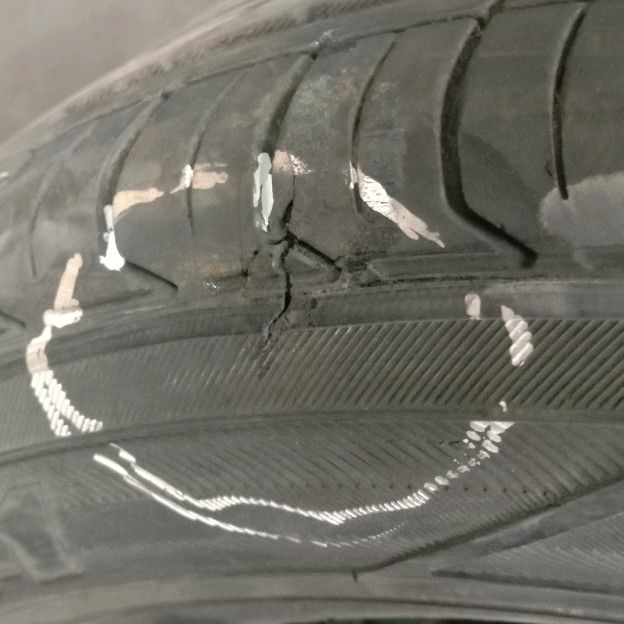cut: (205, 145, 412, 360)
